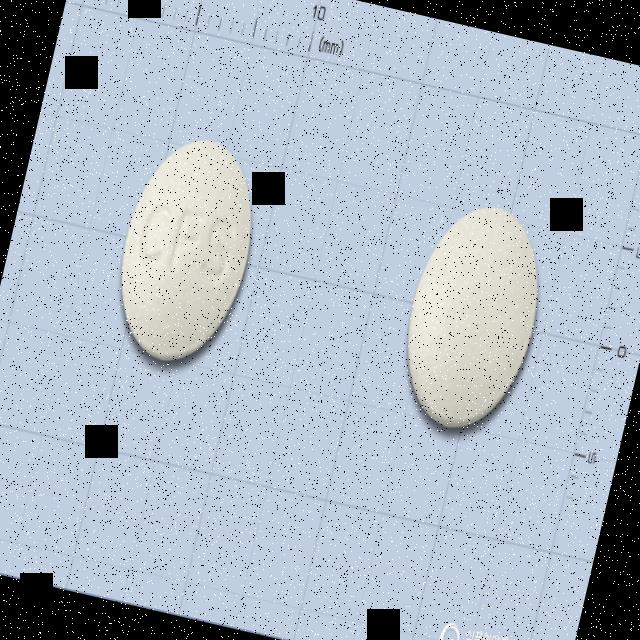Ciproxin: (98, 120, 278, 380)
